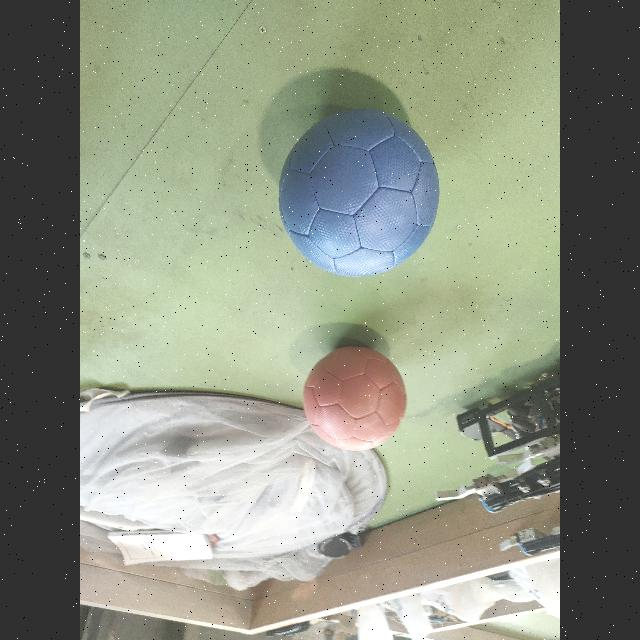B: (278, 110, 440, 277)
R: (302, 347, 406, 451)
